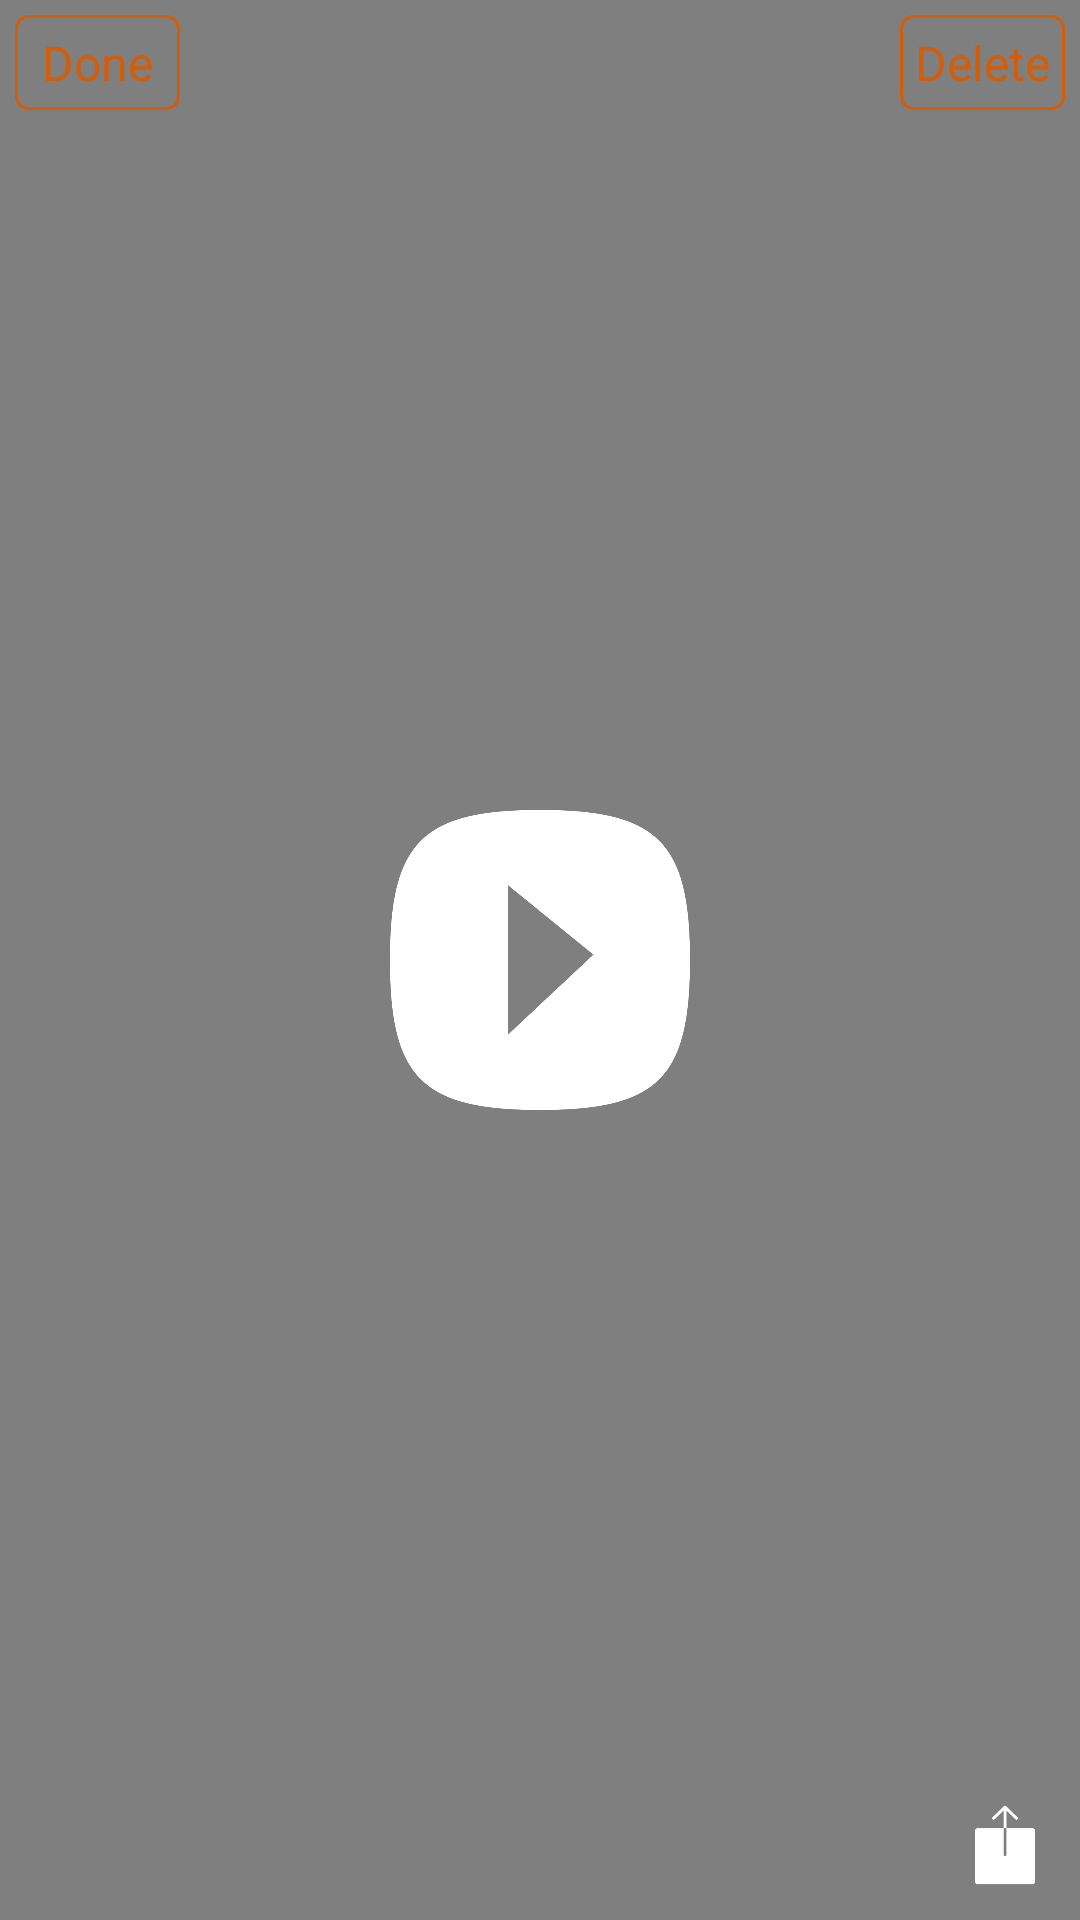

Icon click points for this 1080 × 1920 phone screenshot, format [x,y]:
playbutton: [540,960]
shareicon: [1005,1845]
